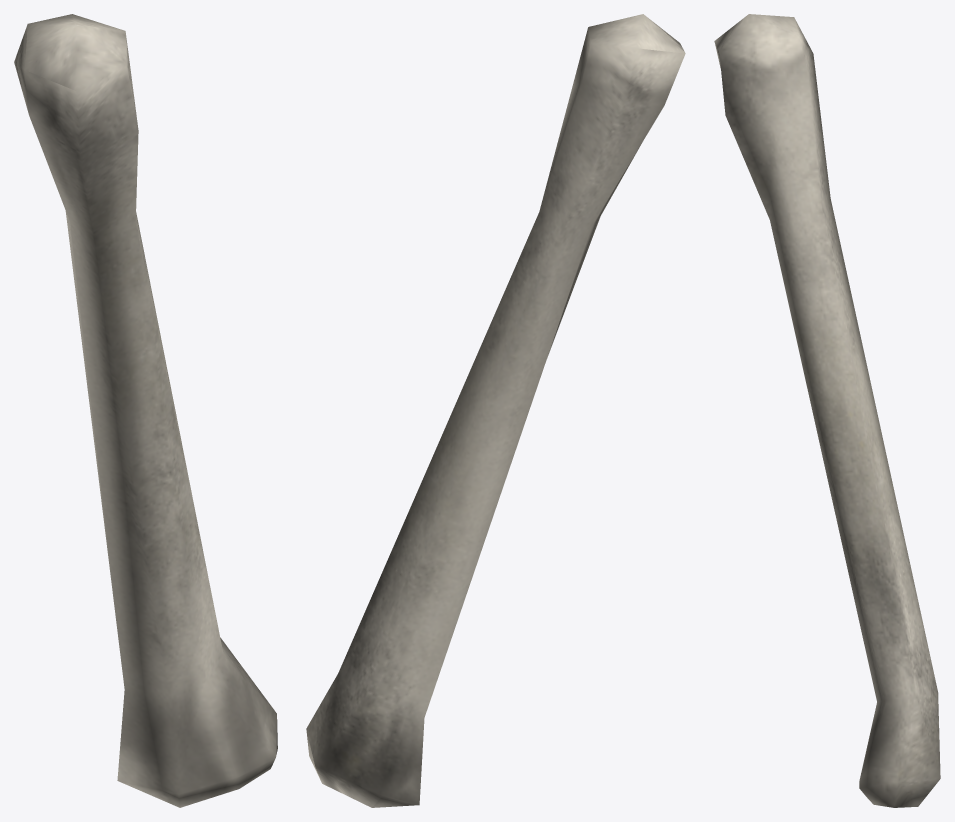
File: brazoIzq.obj
3 views of the same model, side by side, from view 1: azimuth 30°, elevation 25°; view 2: azimuth 150°, elevation 25°; view 3: azimuth 270°, elevation 25° (orthographic). The views are drawn at different scales.
Visible parts, largest first — view 1: brazoIzq; view 2: brazoIzq; view 3: brazoIzq.
Part boxes in pixels (bbox=[...]): brazoIzq: bbox=[14, 14, 277, 807]; brazoIzq: bbox=[306, 14, 685, 807]; brazoIzq: bbox=[714, 14, 940, 807].
Bounding box in the file's own units: 0.1424 × 0.3501 × 0.1023.
1 material, 1 textured.
